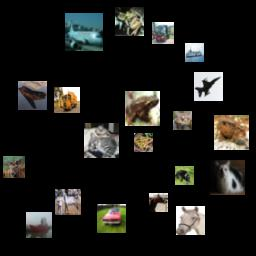airplane: (65, 13, 103, 51), (194, 72, 223, 101), (18, 81, 47, 110)
automobile: (97, 204, 126, 233)
cat: (84, 123, 119, 158), (210, 160, 245, 195)
deer: (3, 156, 25, 178)
dog: (175, 166, 194, 185)
frog: (214, 115, 249, 150), (125, 91, 160, 126), (115, 7, 144, 36), (173, 111, 192, 130), (134, 133, 153, 152)
ship: (26, 212, 52, 238), (185, 43, 204, 62)
truck: (54, 87, 80, 113), (152, 22, 174, 44)
